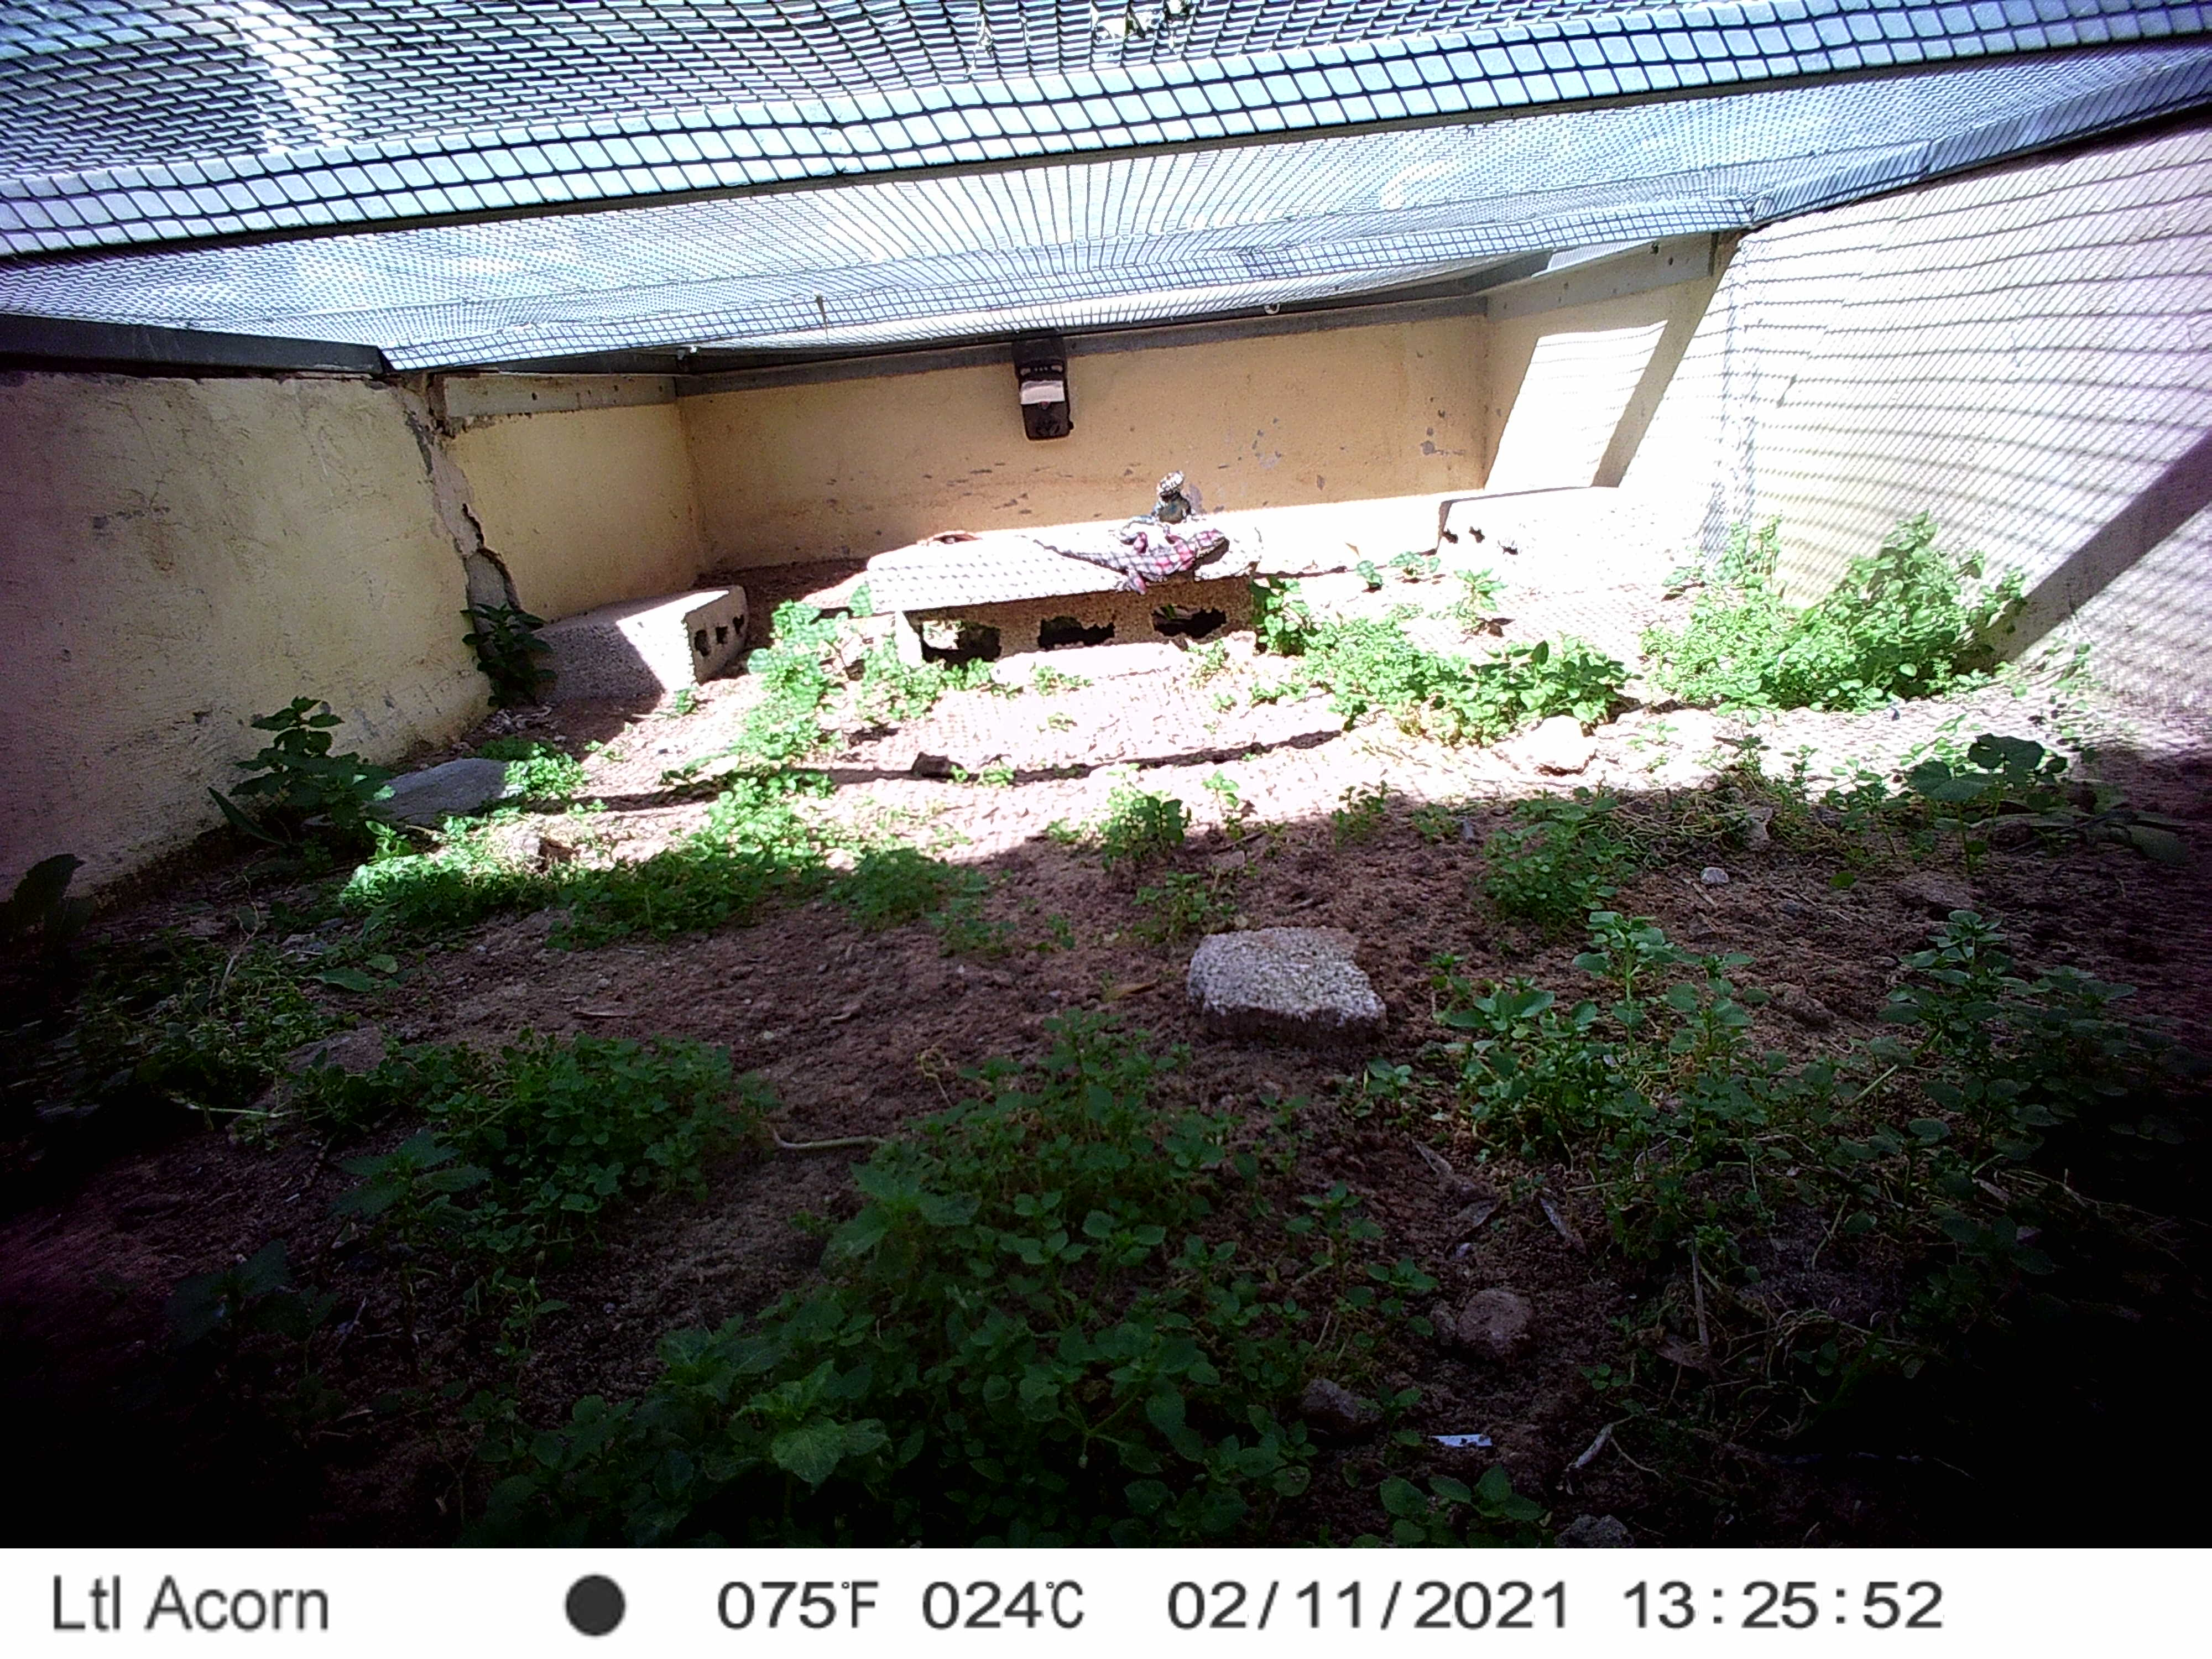lizard: (1021, 533, 1235, 599), (1123, 465, 1205, 525)
